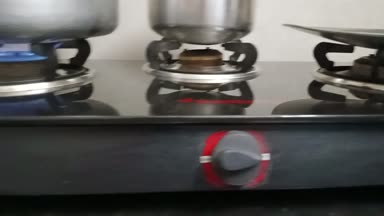flame_gas_off: (149, 21, 284, 196)
flame_gas_on: (0, 30, 113, 106)
